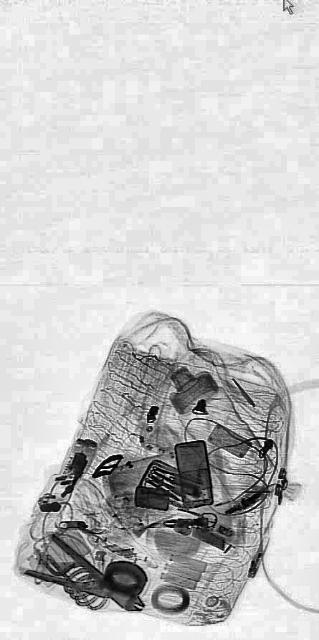Pliers: (23, 522, 148, 630)
